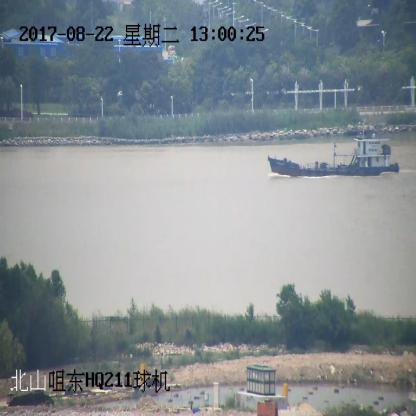Fishing Boat: (268, 124, 399, 178)
